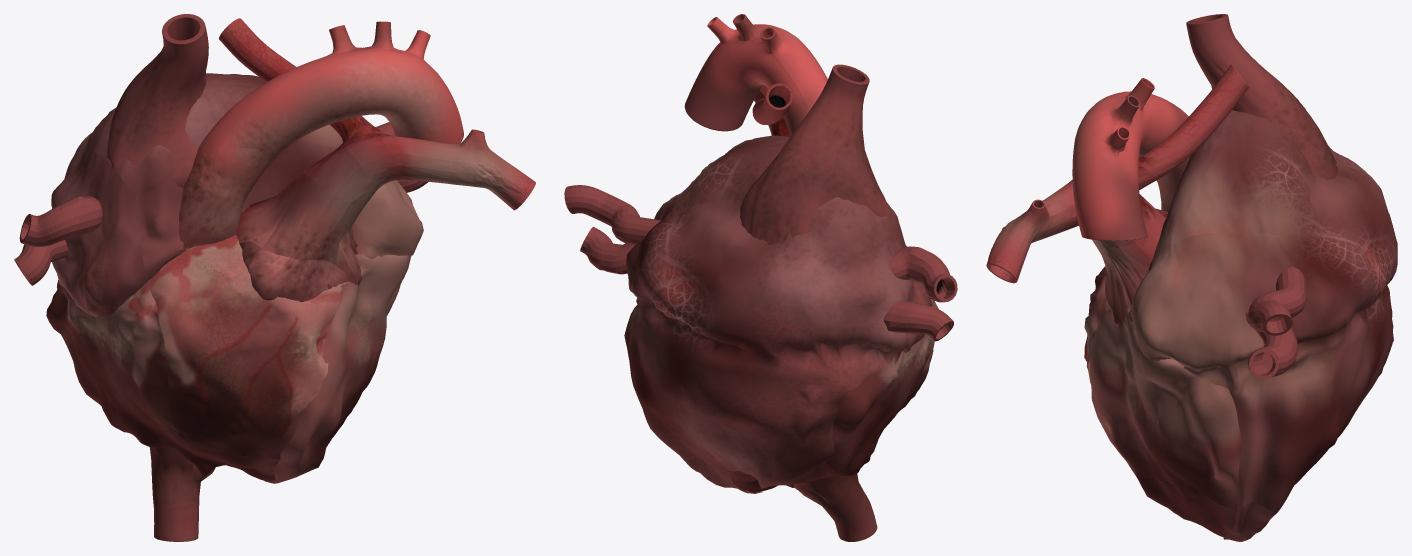
File: heart.glb
The picture shows the model from 3 angles, left to right: view 1: azimuth 30°, elevation 25°; view 2: azimuth 150°, elevation 25°; view 3: azimuth 270°, elevation 25°; orthographic projection. The views are drawn at different scales.
Visible parts, largest first — view 1: Object002_Default Material_1_0, Box002_Default Material_3_0, Line002_Default Material_5_0, Line001_Default Material_6_0, Object001_Default Material_2_0, Line003_Default Material_8_0, Line010_Default Material_4_0, Line007_Default Material_7_0; view 2: Box002_Default Material_3_0, Line003_Default Material_8_0, Line001_Default Material_6_0, Object002_Default Material_1_0, Line007_Default Material_7_0, Line010_Default Material_4_0, Line009_Default Material_9_0, Line002_Default Material_5_0, Line008_Default Material_10_0; view 3: Box002_Default Material_3_0, Object001_Default Material_2_0, Line001_Default Material_6_0, Line002_Default Material_5_0, Line003_Default Material_8_0, Line009_Default Material_9_0, Line008_Default Material_10_0, Object002_Default Material_1_0.
Boxes of the visible parts, x1,y1,x2,y2 form: Object002_Default Material_1_0: (46, 235, 350, 483); Box002_Default Material_3_0: (51, 73, 423, 481); Line002_Default Material_5_0: (219, 18, 535, 302); Line001_Default Material_6_0: (179, 21, 463, 250); Object001_Default Material_2_0: (265, 254, 411, 483); Line003_Default Material_8_0: (107, 14, 208, 187); Line010_Default Material_4_0: (150, 446, 215, 541); Line007_Default Material_7_0: (14, 196, 102, 285); Box002_Default Material_3_0: (624, 135, 931, 493); Line003_Default Material_8_0: (740, 64, 891, 244); Line001_Default Material_6_0: (684, 14, 827, 135); Object002_Default Material_1_0: (726, 299, 938, 492); Line007_Default Material_7_0: (883, 246, 957, 341); Line010_Default Material_4_0: (793, 473, 877, 541); Line009_Default Material_9_0: (564, 185, 660, 244); Line002_Default Material_5_0: (752, 83, 792, 136); Line008_Default Material_10_0: (580, 226, 634, 274); Box002_Default Material_3_0: (1128, 110, 1397, 541); Object001_Default Material_2_0: (1089, 303, 1241, 537); Line001_Default Material_6_0: (1072, 78, 1190, 240); Line002_Default Material_5_0: (986, 64, 1248, 329); Line003_Default Material_8_0: (1186, 14, 1338, 180); Line009_Default Material_9_0: (1248, 266, 1306, 335); Line008_Default Material_10_0: (1245, 302, 1298, 379); Object002_Default Material_1_0: (1084, 266, 1113, 383).
Bounding box in the file's own units: 0.5091 × 0.6 × 0.4448.
10 materials, 10 textured.
